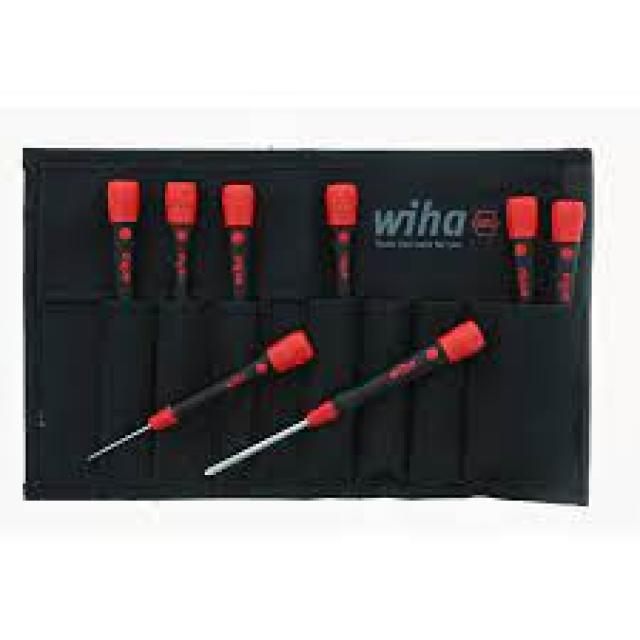screwdriver: (202, 320, 489, 480), (84, 329, 317, 466)
